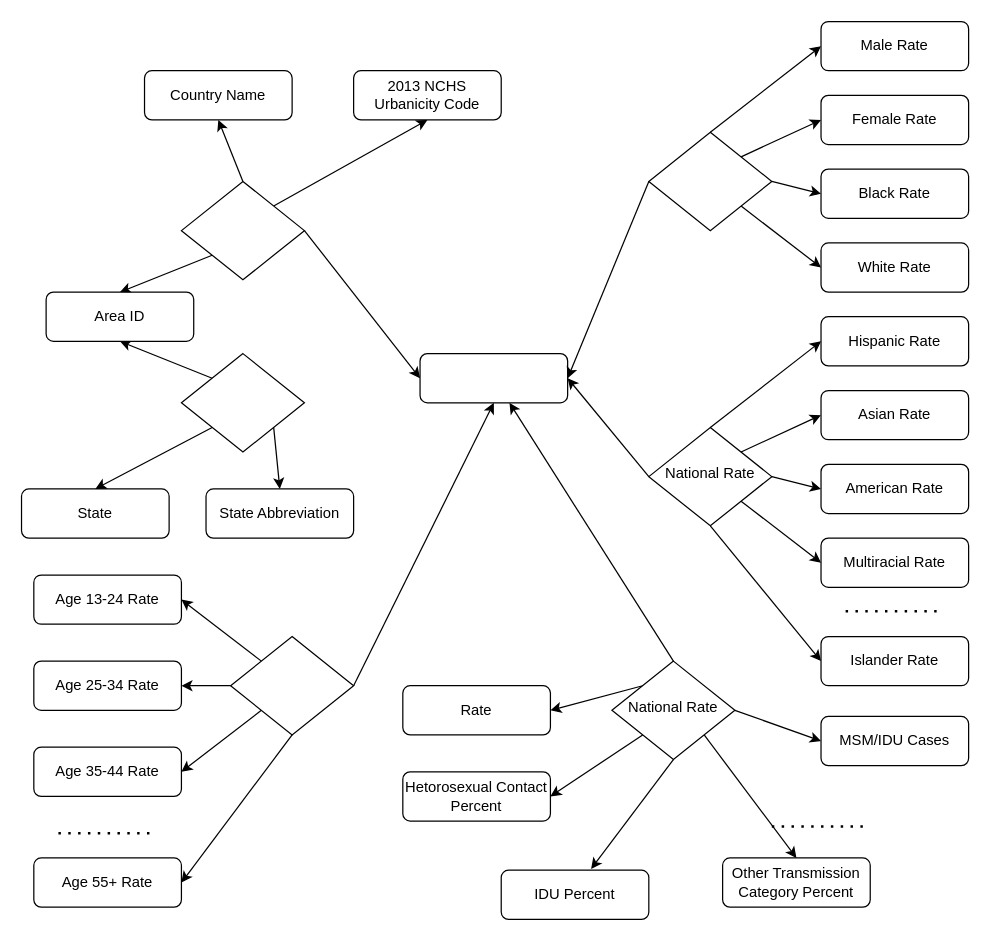
Some shapes in this 990 by 941 pixel diagram are drawn without their labels. Each missing label, with the box of its shape:
Age Rate: (229, 635, 354, 735)
Area: (180, 352, 304, 452)
GEO: (180, 180, 304, 280)
GEO ID: (419, 352, 568, 403)
Human Rate: (648, 131, 772, 231)
